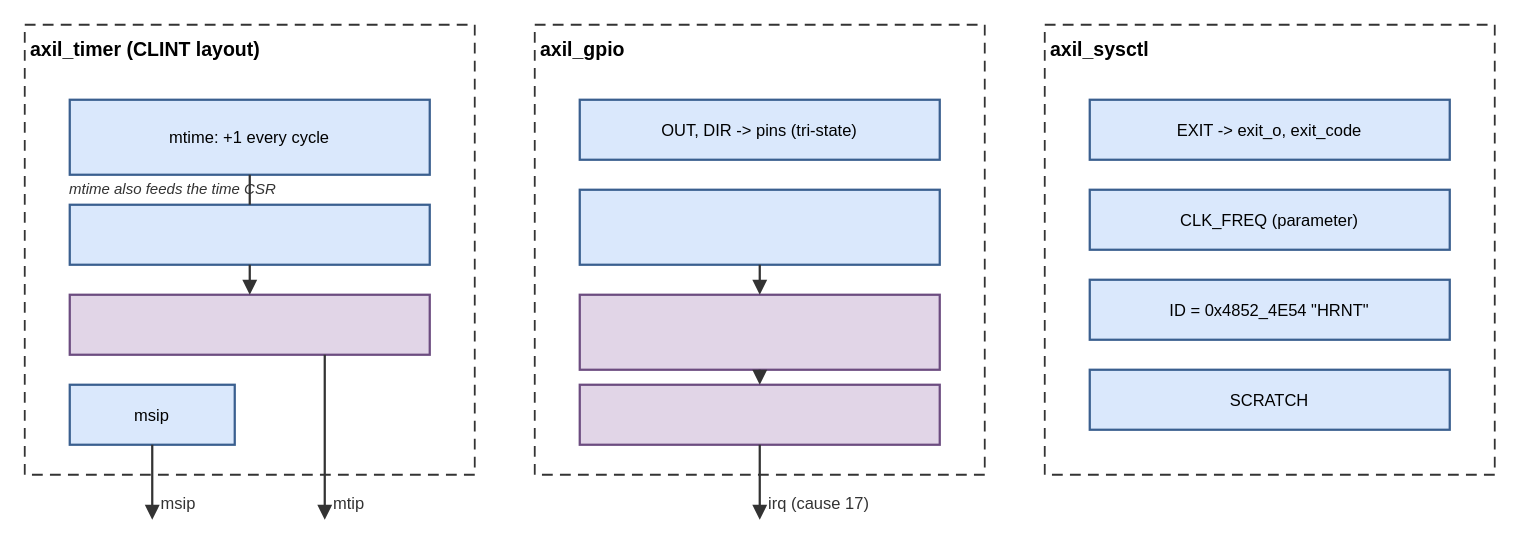
The diagram is 1520 pixels wide and 542 high, and some of its shapes have lost their labels. Each missing label, with the centre of its shape:
compare: mtime >= mtimecmp: the point at 249,324
edge detect (EDGE: rise/fall) IP |= edge: the point at 759,331
IN: 2-flop synchroniser: the point at 759,226
irq = |(IP & IE): the point at 759,414
mtimecmp: the point at 249,234
